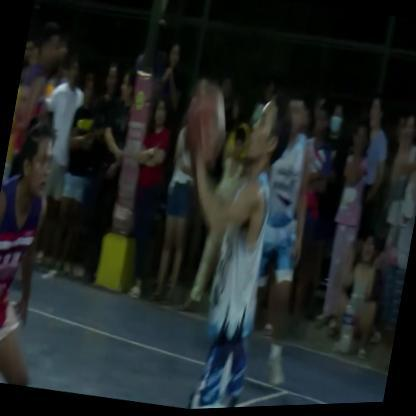basketball: (171, 75, 236, 185)
